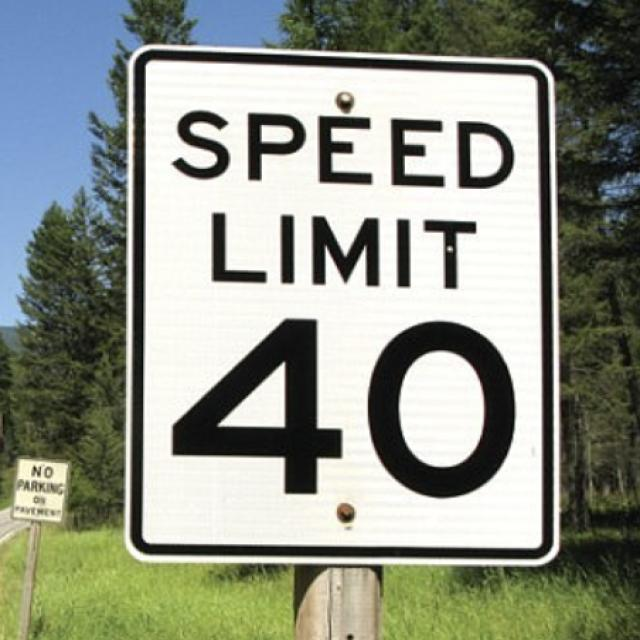speedLimit40: (137, 77, 541, 552)
